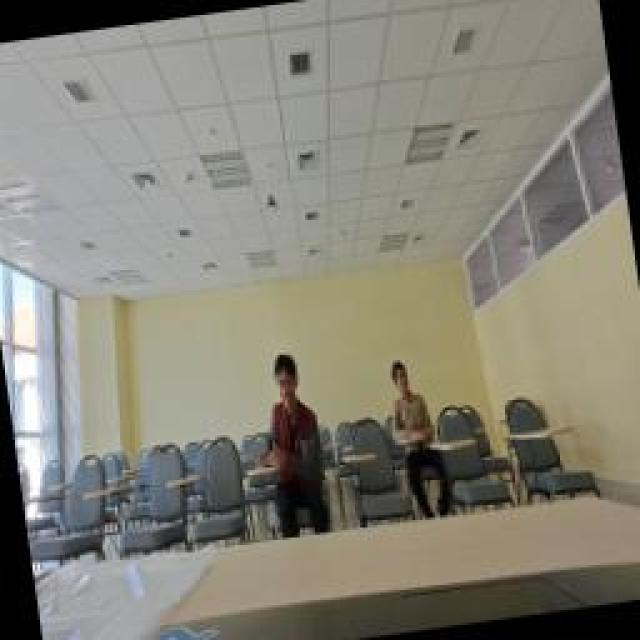study: (380, 358, 432, 440)
